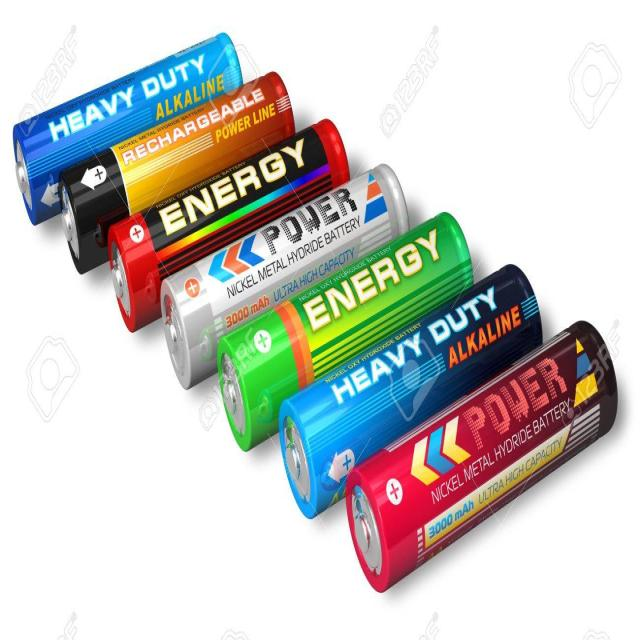battery: (342, 319, 622, 597), (271, 264, 573, 520), (196, 215, 485, 446), (158, 164, 410, 386), (61, 71, 326, 282), (106, 120, 354, 334), (10, 39, 251, 229)
